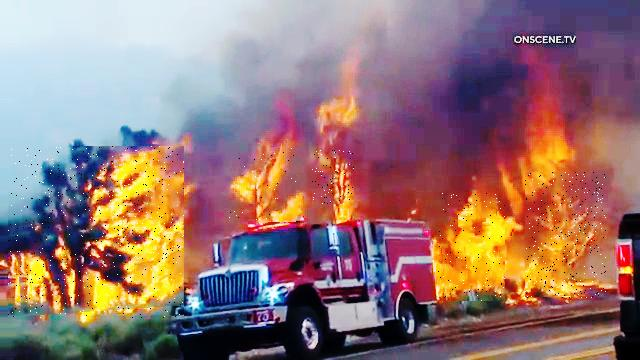fire: (8, 147, 184, 319), (526, 172, 607, 298), (438, 193, 505, 301), (229, 147, 297, 222), (310, 150, 354, 206)
